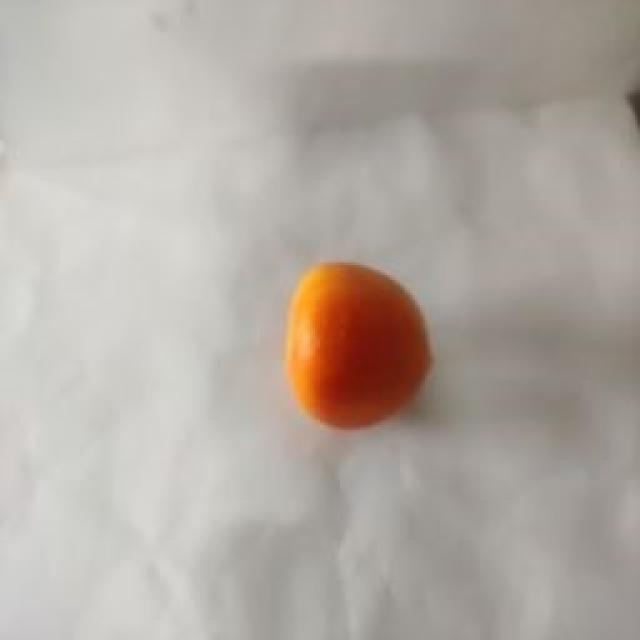unripe: (228, 190, 458, 450)
